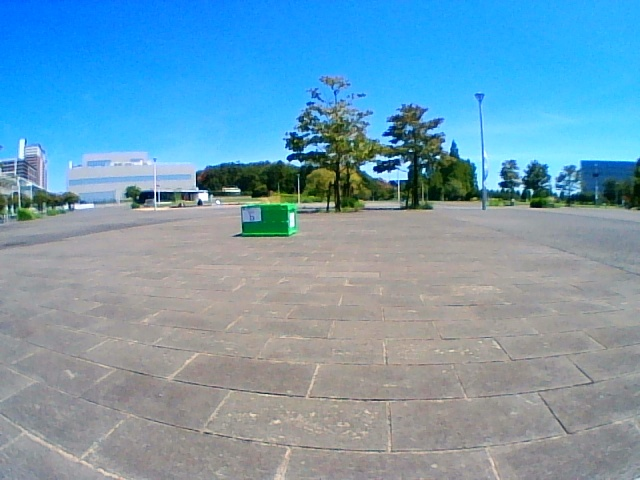green_box: (241, 203, 294, 235)
tag_b: (244, 208, 259, 220)
